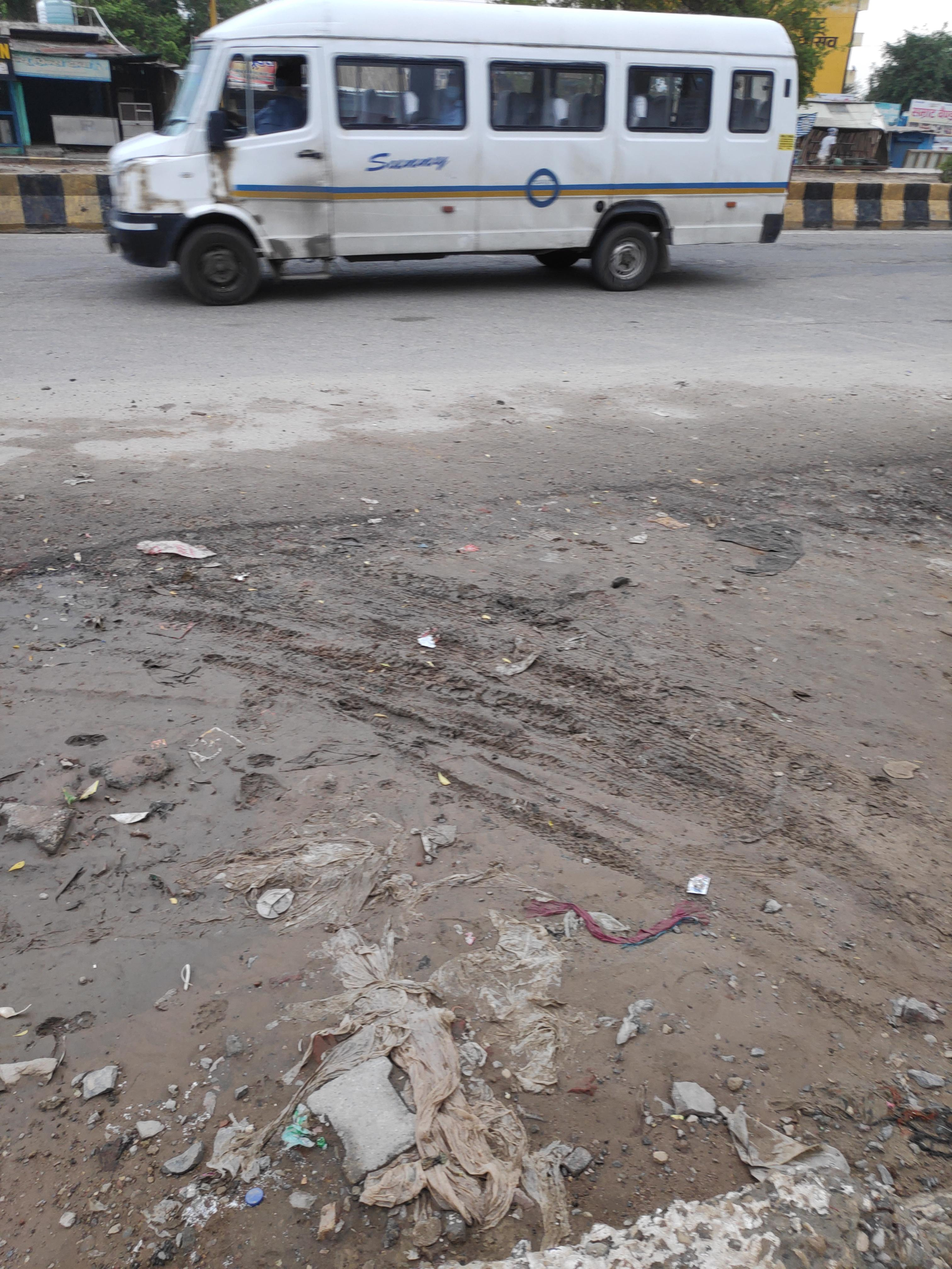Non-emergency: (4, 0, 868, 367)
